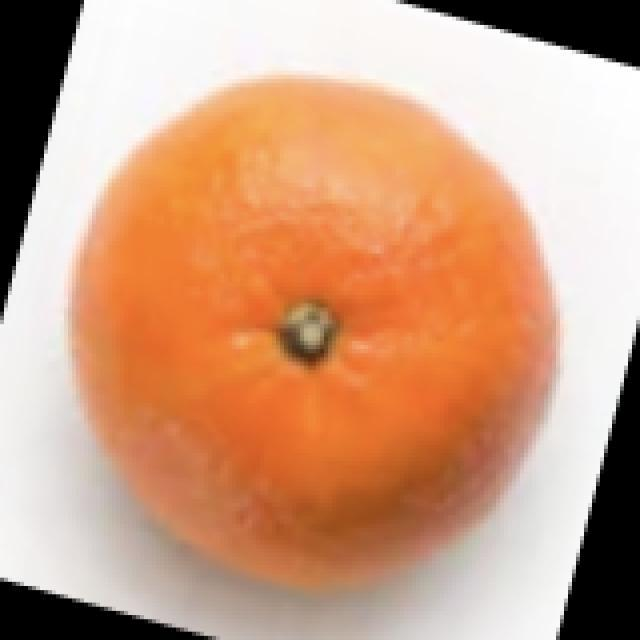Orange: (66, 70, 559, 594)
